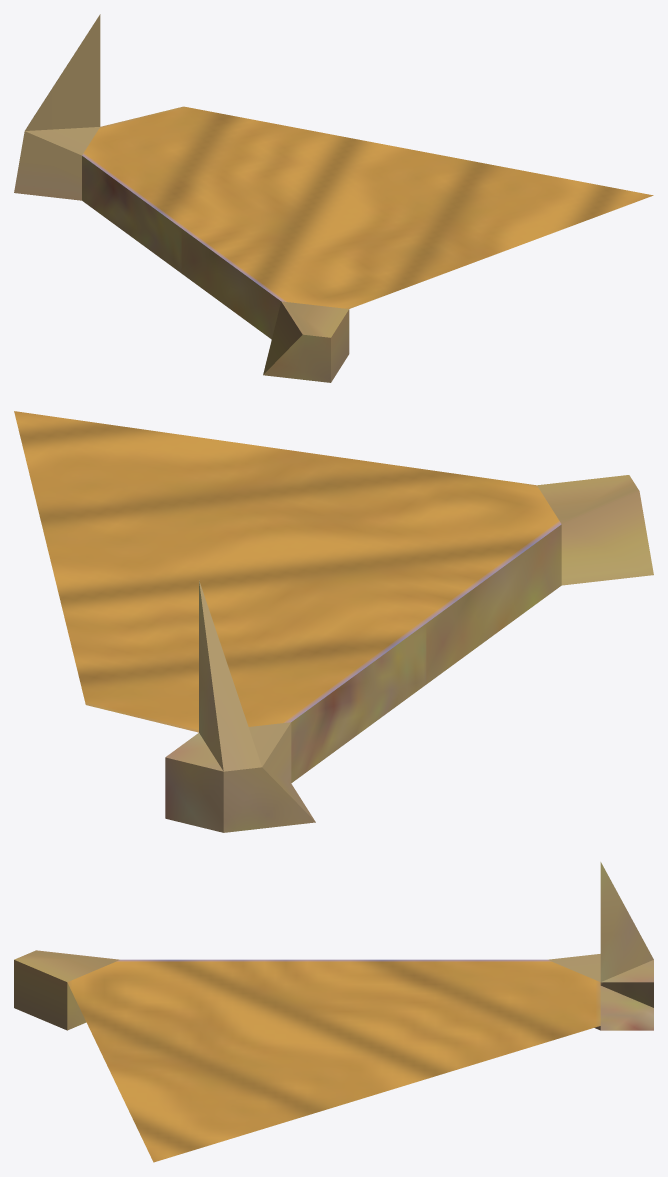
File: crate_shattered_5.glb
3 renders of one model, top to bottom at view 1: azimuth 30°, elevation 25°; view 2: azimuth 150°, elevation 25°; view 3: azimuth 270°, elevation 25°, orthographic. The views are drawn at different scales.
Parts seen in each view (by area): view 1: BoltCrateSplinter5; view 2: BoltCrateSplinter5; view 3: BoltCrateSplinter5.
Boxes of the visible parts, box(x1,y1,x2,y2) form: BoltCrateSplinter5: box(14, 14, 653, 382); BoltCrateSplinter5: box(14, 411, 653, 832); BoltCrateSplinter5: box(14, 862, 653, 1162).
Bounding box in the file's own units: 1 × 0.35 × 1.2.
Materials: 1 (1 with a texture image).
